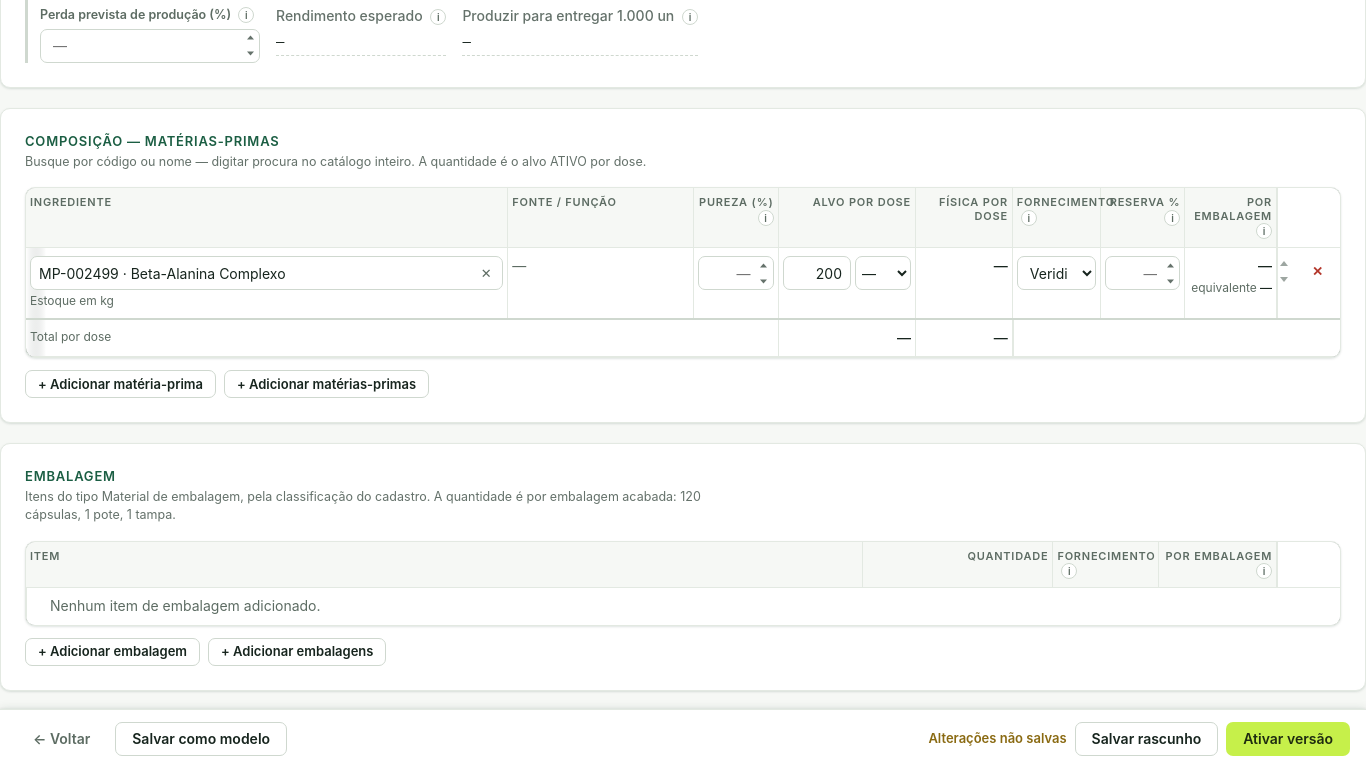
Test: Formulação — busca de matéria-prima no servidor › a primeira página do catálogo não contém o item procurado
(page scrolled)
Click the button "+ Adicionar matéria-prima". click: (120, 384)
box: [25,370,216,398]
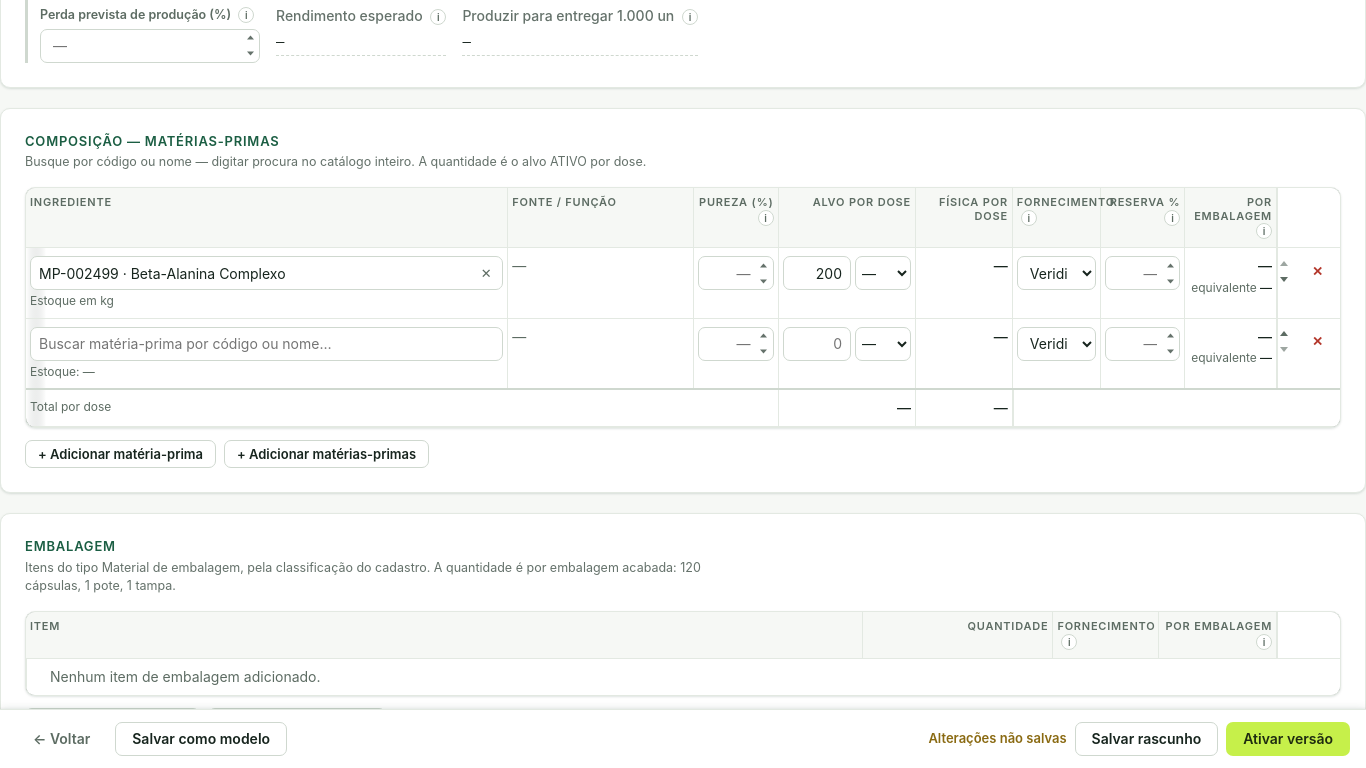
Focus the dropdown with placeholder "Buscar matéria-prima por código ou nome…". click: (267, 344)
box: [30,327,503,361]
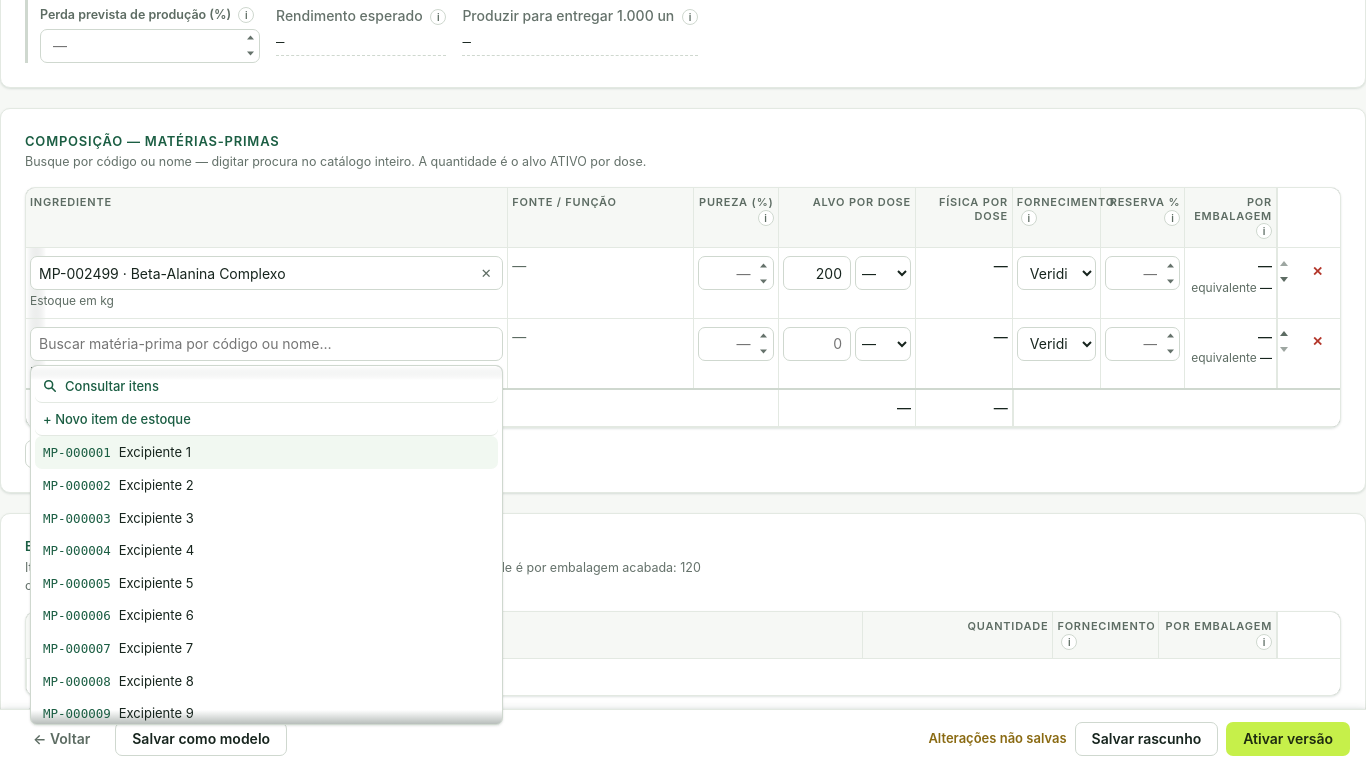
Now the option "MP-000001 Excipiente 1" is shown, box [35,436,498,469]
